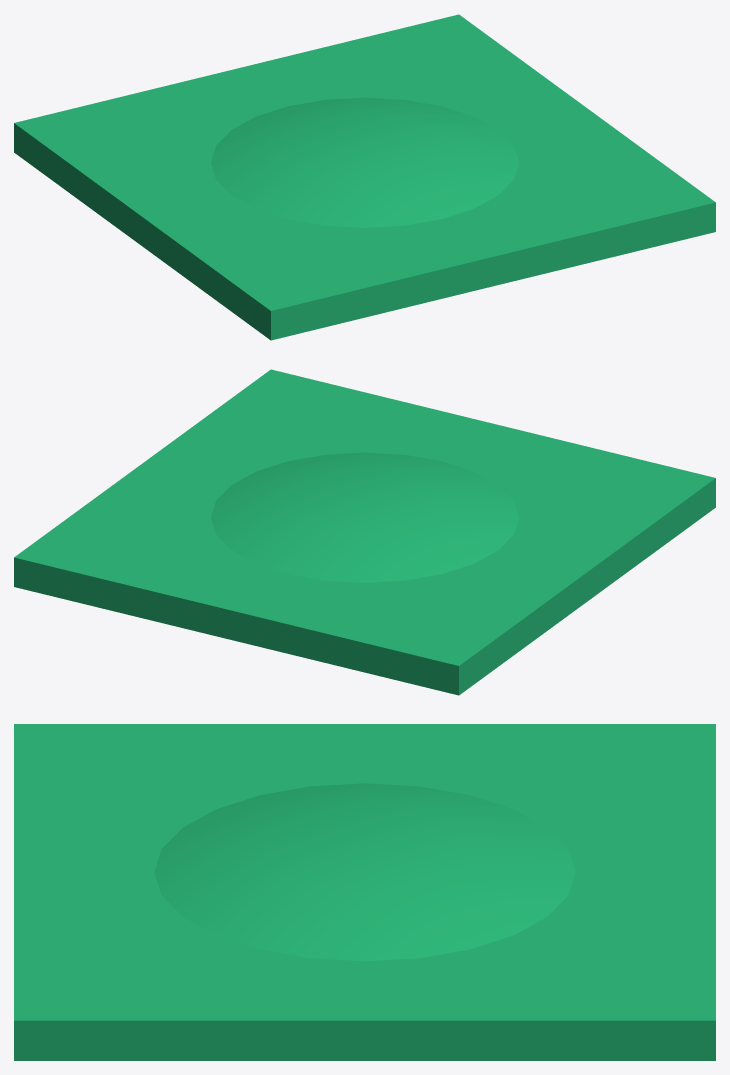
Rendered from bump.fbx.
The picture shows the model from 3 angles, top to bottom: view 1: azimuth 30°, elevation 25°; view 2: azimuth 150°, elevation 25°; view 3: azimuth 270°, elevation 25°; orthographic projection. The views are drawn at different scales.
Parts seen in each view (by area): view 1: bump; view 2: bump; view 3: bump.
Boxes of the visible parts, x1,y1,x2,y2 form: bump: [14, 14, 715, 340]; bump: [14, 369, 715, 695]; bump: [14, 724, 715, 1060].
Size of the model in its own units: 10 by 0.9666 by 10.
